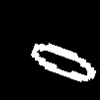chain: (31, 43, 95, 81)
